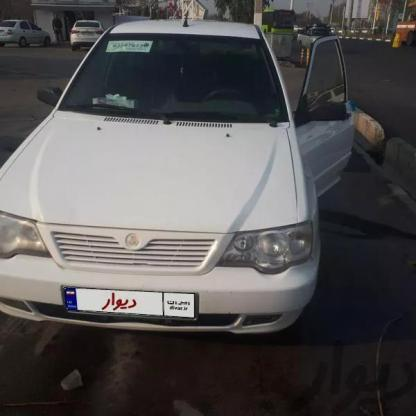Car: (0, 18, 331, 338), (0, 19, 51, 50), (65, 16, 110, 42)
